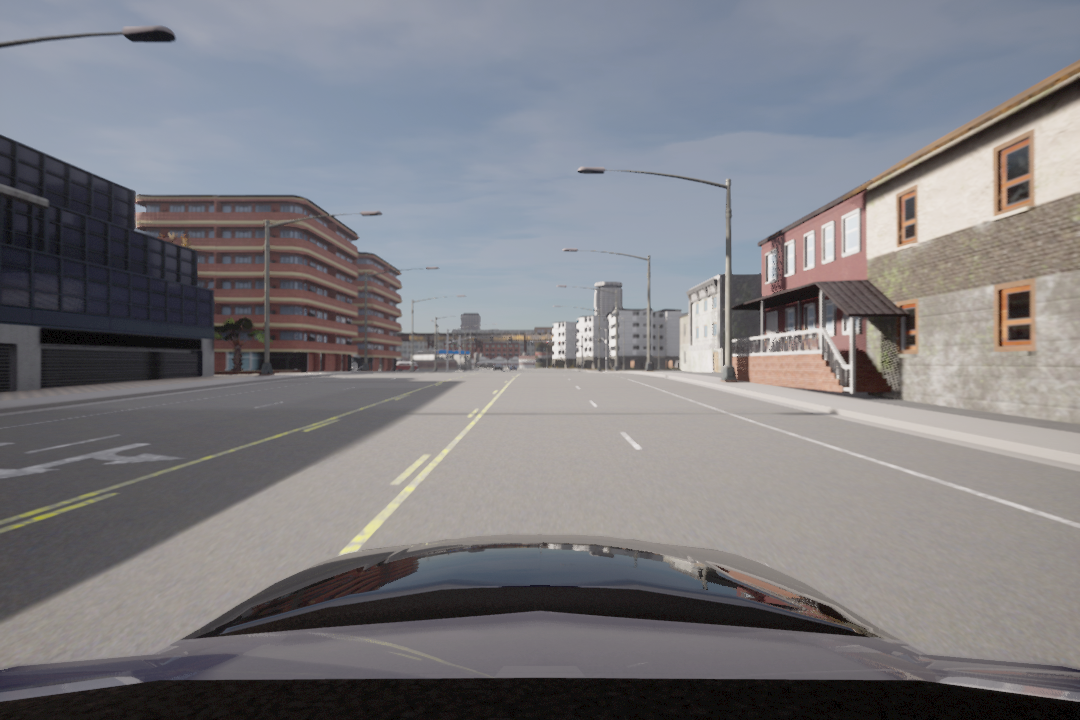RoadSign_forward_left: (1, 440, 184, 484)
